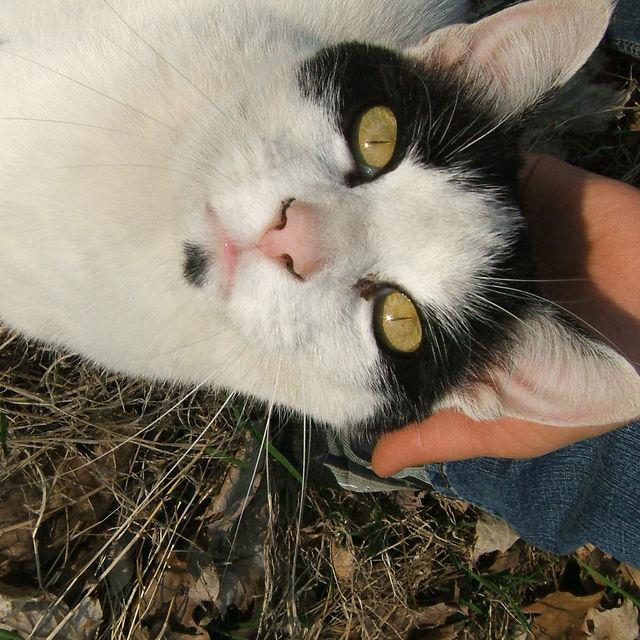animals: (263, 2, 640, 405)
